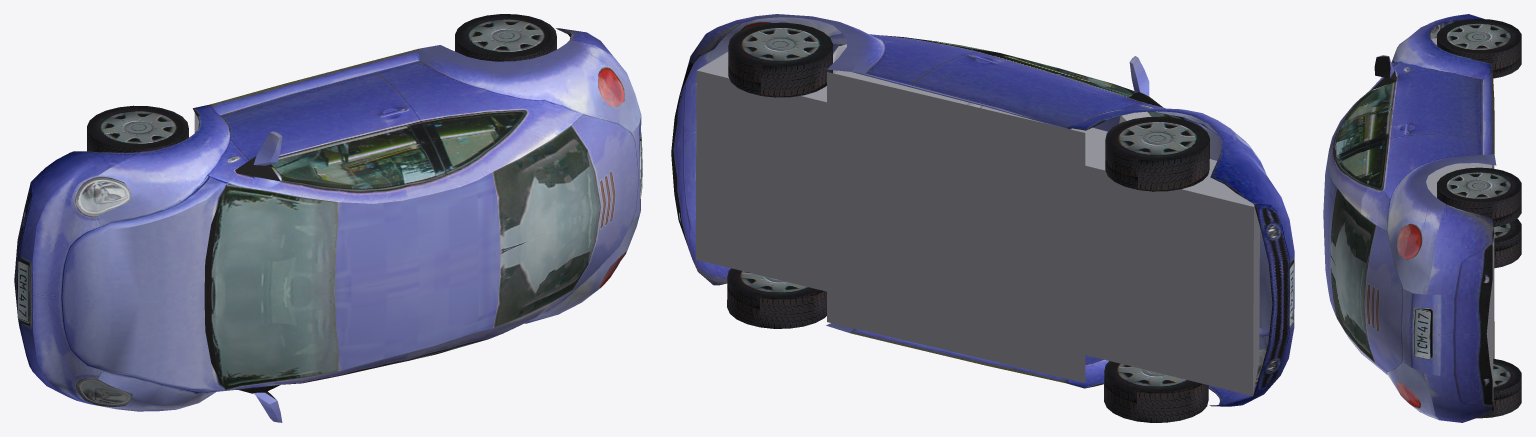
File: Car_14.obj
The picture shows the model from 3 angles, left to right: view 1: azimuth 30°, elevation 25°; view 2: azimuth 150°, elevation 25°; view 3: azimuth 270°, elevation 25°; orthographic projection. The views are drawn at different scales.
Parts seen in each view (by area): view 1: _4body, _4tyres, _4tyresurf, _4plates; view 2: _4fill, _4body, _4tyresurf, _4tyres; view 3: _4body, _4tyres, _4tyresurf, _4fill, _4plates.
Part boxes in pixels (box(x1,y1,x2,y2)): _4body: box(14, 28, 641, 422); _4tyres: box(87, 14, 556, 148); _4tyresurf: box(87, 36, 556, 152); _4plates: box(17, 132, 642, 323); _4fill: box(695, 44, 1259, 395); _4body: box(671, 14, 1294, 406); _4tyresurf: box(727, 45, 1209, 422); _4tyres: box(727, 22, 1209, 392); _4body: box(1323, 14, 1496, 422); _4tyres: box(1437, 19, 1521, 391); _4tyresurf: box(1437, 40, 1521, 418); _4fill: box(1426, 38, 1494, 401); _4plates: box(1413, 307, 1430, 359).
Size of the model in its own units: 4.23 by 1.94 by 1.44.
